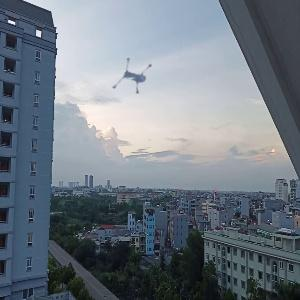drone: (101, 50, 165, 114)
